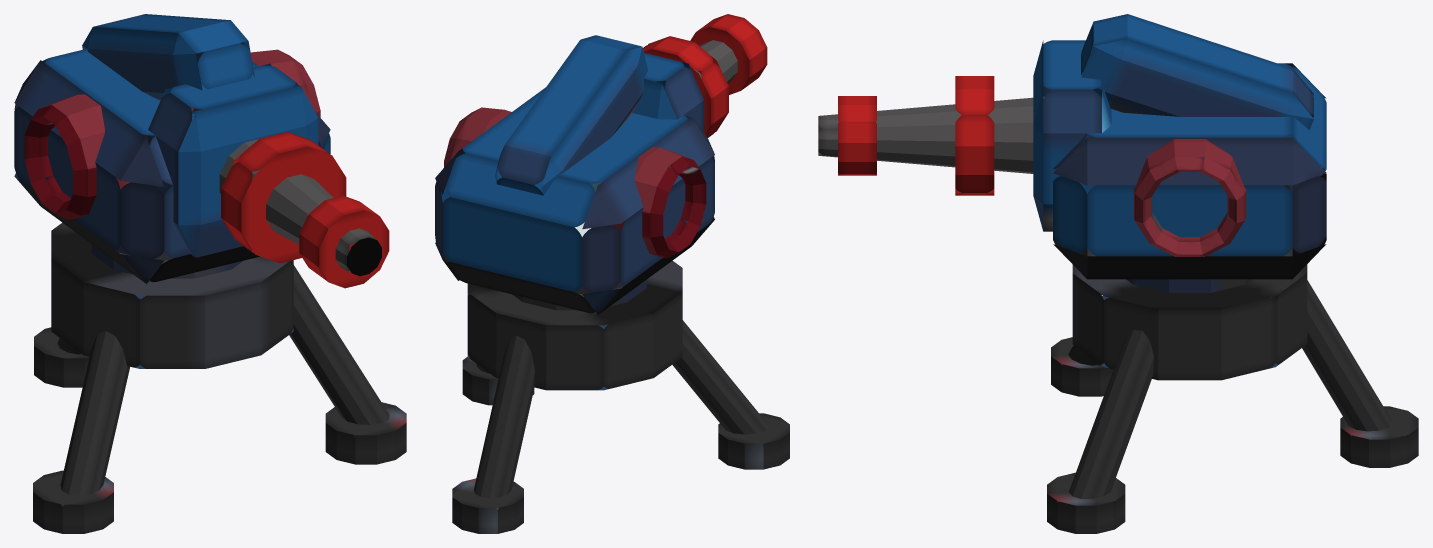
Rendered from Turret.fbx.
3 renders of one model, left to right at view 1: azimuth 30°, elevation 25°; view 2: azimuth 150°, elevation 25°; view 3: azimuth 270°, elevation 25°, orthographic. The views are drawn at different scales.
Visible parts, largest first — view 1: cylinder_4, beveled_cuboid, beveled_cuboid_1, beveled_cuboid_2, cylinder_7, torus_1, cylinder_1, cylinder_3, cylinder_6, cylinder_8, cylinder_10, cylinder (+3 smaller); view 2: beveled_cuboid, cylinder_4, beveled_cuboid_2, cylinder_2, torus_1, cylinder_1, beveled_cuboid_1, cylinder_7, cylinder_9, cylinder_8, cylinder_10, torus (+3 smaller); view 3: beveled_cuboid, cylinder_4, beveled_cuboid_2, cylinder_6, beveled_cuboid_1, torus, cylinder_3, cylinder_2, cylinder_7, cylinder_9, cylinder, cylinder_8 (+2 smaller).
Part boxes in pixels (x1,y1,x2,y2): cylinder_4: (51,222,293,368); beveled_cuboid: (14,49,330,283); beveled_cuboid_1: (148,63,318,257); beveled_cuboid_2: (82,14,254,111); cylinder_7: (221,132,346,263); torus_1: (24,94,130,219); cylinder_1: (60,298,140,506); cylinder_3: (289,265,389,437); cylinder_6: (219,139,381,276); cylinder_8: (299,195,389,288); cylinder_10: (33,470,113,533); cylinder: (325,402,406,464); beveled_cuboid: (435,87,714,314); cylinder_4: (467,260,682,390); beveled_cuboid_2: (495,35,647,195); cylinder_2: (474,335,534,508); torus_1: (612,147,706,257); cylinder_1: (672,320,768,445); beveled_cuboid_1: (590,53,704,191); cylinder_7: (643,36,728,137); cylinder_9: (452,478,523,533); cylinder_8: (690,14,767,94); cylinder_10: (718,413,789,469); torus: (444,107,511,167); beveled_cuboid: (1053,63,1326,279); cylinder_4: (1072,264,1307,380); beveled_cuboid_2: (1081,14,1313,142); cylinder_6: (818,96,1044,173); beveled_cuboid_1: (1033,40,1111,231); torus: (1133,139,1246,256); cylinder_3: (1069,330,1153,498); cylinder_2: (1271,280,1392,431); cylinder_7: (955,76,994,195); cylinder_9: (1340,406,1418,467); cylinder: (1047,472,1125,533); cylinder_8: (838,96,876,175).
Bounding box in the file's own units: 129 × 150 × 192.
Materials: 1 (1 with a texture image).
